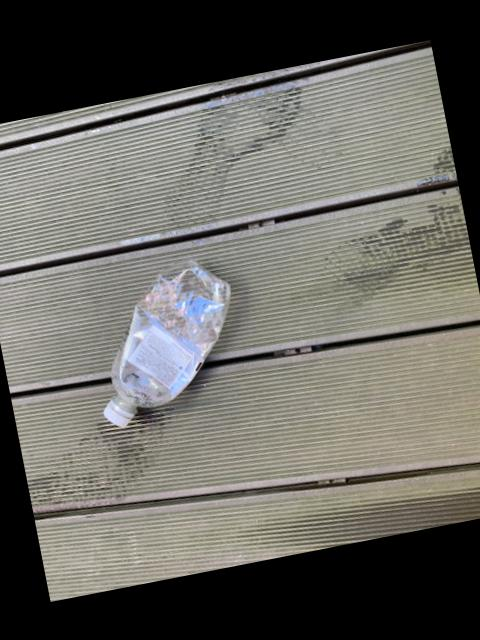plastic: (102, 261, 229, 427)
